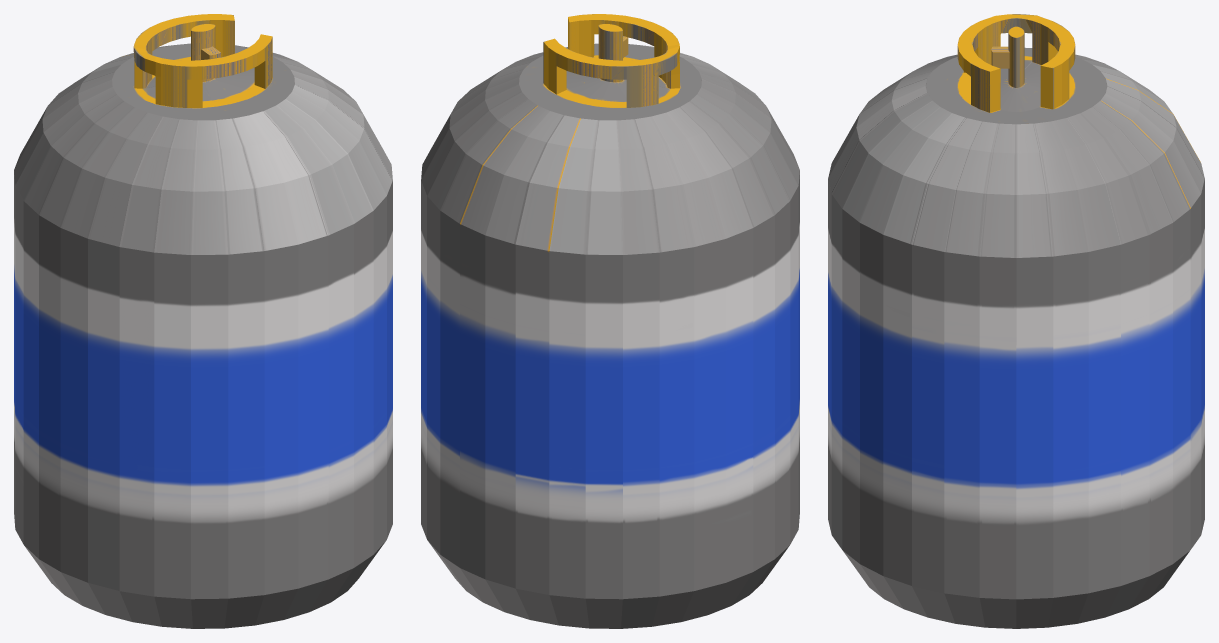
The model's file is prop.fbx.
3 views of the same model, side by side, from view 1: azimuth 30°, elevation 25°; view 2: azimuth 150°, elevation 25°; view 3: azimuth 270°, elevation 25° (orthographic).
Parts seen in each view (by area): view 1: Cylinder; view 2: Cylinder; view 3: Cylinder.
Boxes of the visible parts, box(x1,y1,x2,y2) form: Cylinder: box(14, 14, 392, 628); Cylinder: box(421, 14, 799, 628); Cylinder: box(828, 14, 1204, 628).
Size of the model in its own units: 200 by 320 by 200.
